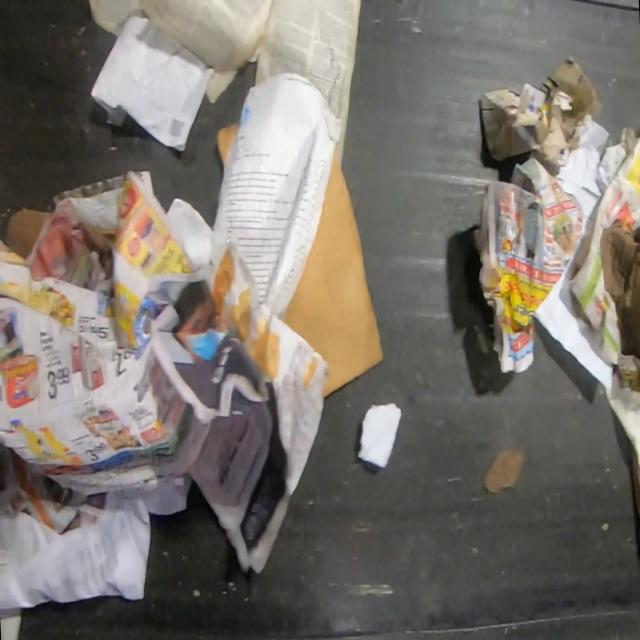cardboard: (284, 147, 384, 397), (601, 226, 640, 360), (5, 208, 54, 258), (215, 123, 239, 167)
